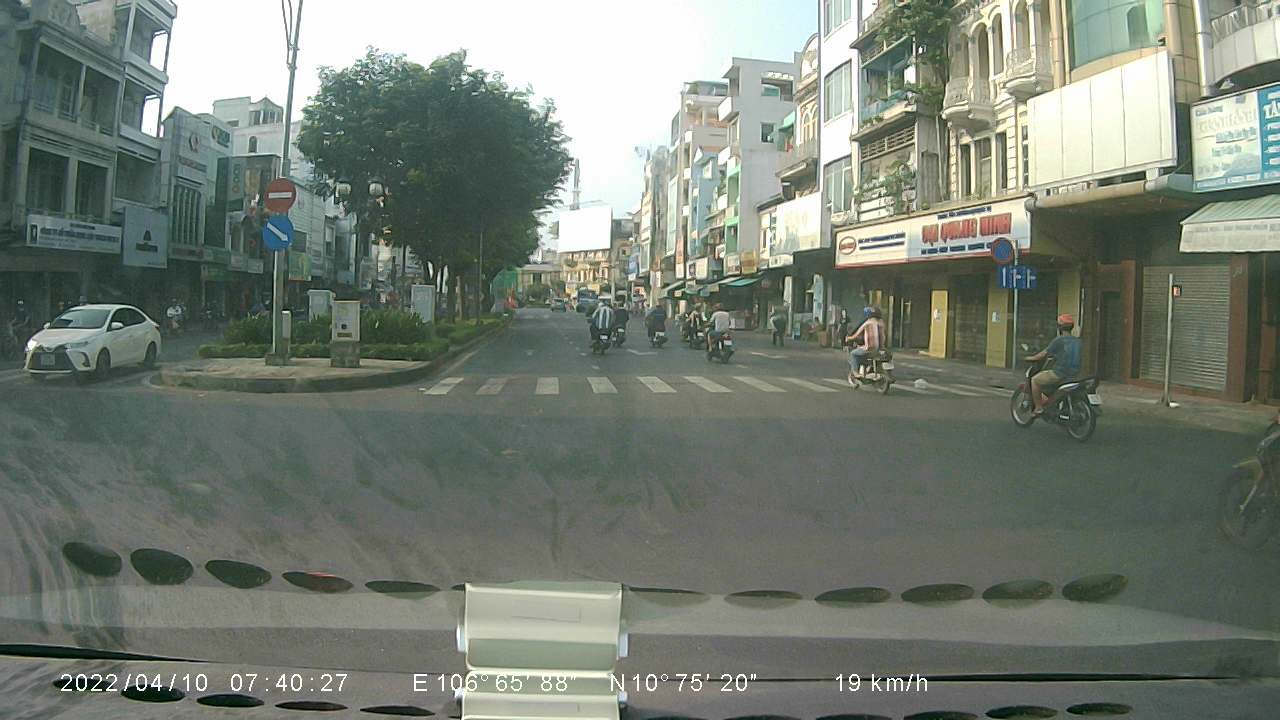Bien khac: (997, 262, 1041, 291)
Cam di nguoc chieu: (260, 177, 298, 209)
Cam do xe: (988, 232, 1016, 264)
Huong di phai re phai: (258, 213, 295, 252)
